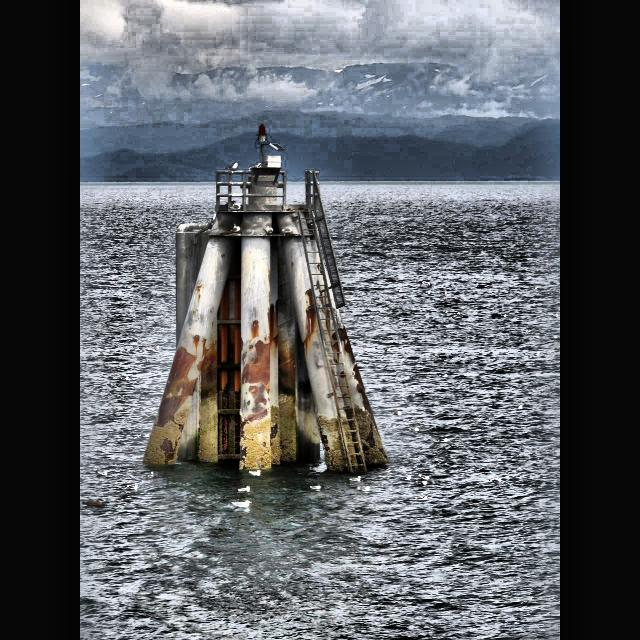buoy: (140, 120, 394, 482)
